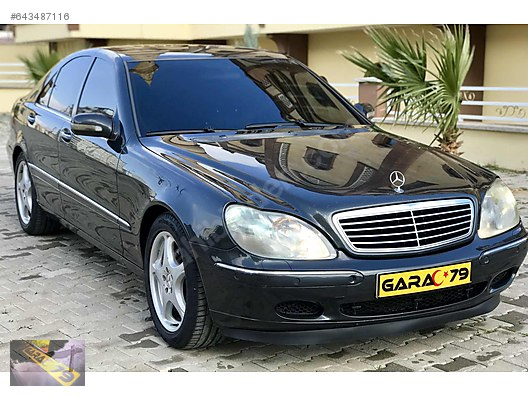m: (8, 42, 528, 369)
